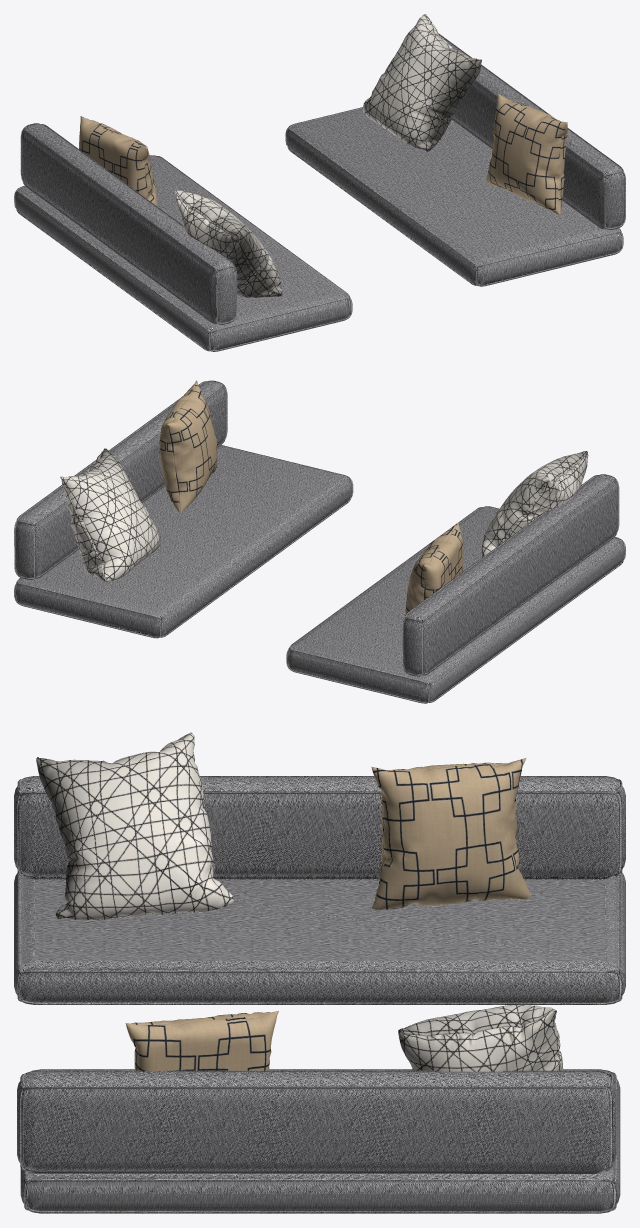
The model's file is cushion-three.glb.
3 renders of one model, top to bottom at view 1: azimuth 30°, elevation 25°; view 2: azimuth 150°, elevation 25°; view 3: azimuth 270°, elevation 25°, orthographic. The views are drawn at different scales.
Parts seen in each view (by area): view 1: trunk_part_39.002; view 2: trunk_part_39.002; view 3: trunk_part_39.002.
Part boxes in pixels (x1,y1,x2,y2): trunk_part_39.002: (14, 14, 625, 351); trunk_part_39.002: (14, 380, 625, 703); trunk_part_39.002: (14, 732, 625, 1213).
Size of the model in its own units: 1.71 by 0.4689 by 1.39.
3 materials, 3 textured.
